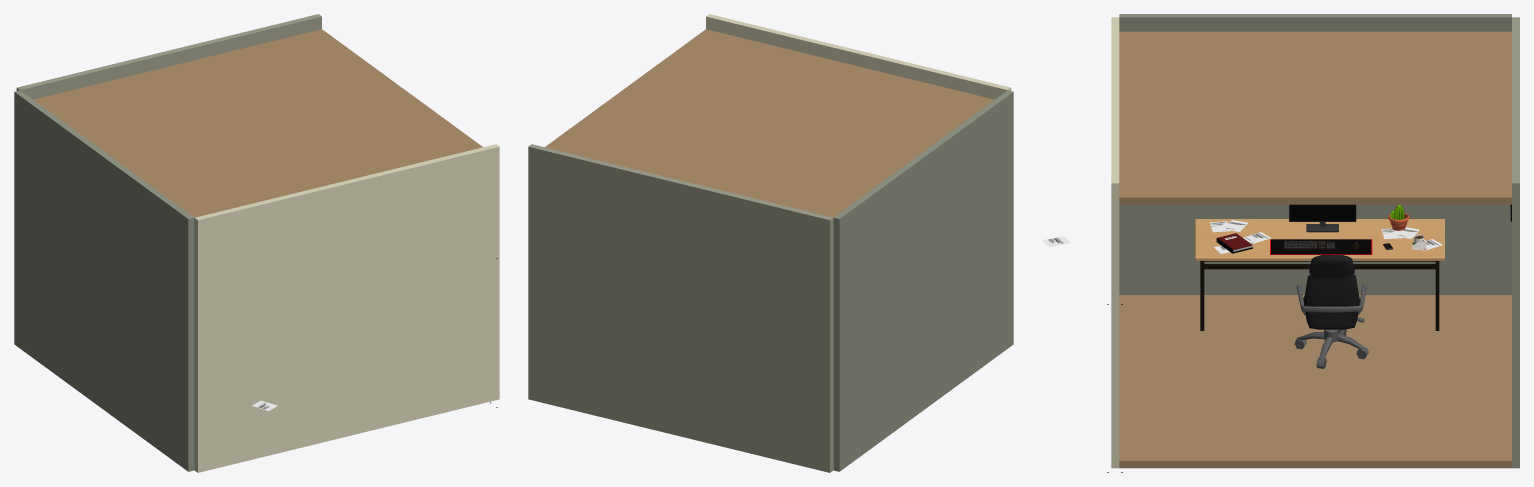
3 renders of one model, left to right at view 1: azimuth 30°, elevation 25°; view 2: azimuth 150°, elevation 25°; view 3: azimuth 270°, elevation 25°, orthographic. The views are drawn at different scales.
Visible parts, largest first — view 1: Cube.002, Cube.003, Cube.001, Cube.004; view 2: Cube.004, Cube.003, Cube.001, Cube.002; view 3: Cube.001, Cube, Cube.003, Desk, Computer Chair, Cube.002, Cube.004, group_0.002, Cube.006, Paper_Paper_0.001, Paper.
Part boxes in pixels (x1=…): Cube.002: x1=194, y1=144, x2=499, y2=472; Cube.003: x1=14, y1=90, x2=194, y2=471; Cube.001: x1=33, y1=29, x2=482, y2=217; Cube.004: x1=16, y1=14, x2=321, y2=99; Cube.004: x1=528, y1=144, x2=833, y2=472; Cube.003: x1=833, y1=90, x2=1013, y2=471; Cube.001: x1=545, y1=29, x2=994, y2=217; Cube.002: x1=706, y1=14, x2=1011, y2=99; Cube.001: x1=1119, y1=31, x2=1511, y2=204; Cube: x1=1119, y1=295, x2=1511, y2=468; Cube.003: x1=1119, y1=14, x2=1511, y2=294; Desk: x1=1195, y1=219, x2=1444, y2=330; Computer Chair: x1=1294, y1=255, x2=1368, y2=368; Cube.002: x1=1111, y1=17, x2=1119, y2=468; Cube.004: x1=1512, y1=17, x2=1519, y2=468; group_0.002: x1=1289, y1=204, x2=1355, y2=221; Cube.006: x1=1271, y1=239, x2=1371, y2=254; Paper_Paper_0.001: x1=1042, y1=220, x2=1271, y2=246; Paper: x1=1214, y1=227, x2=1442, y2=253.
Size of what is drawn, in the model's own units: 10.2 by 8.19 by 12.16.
Materials: 53 (16 with a texture image).
